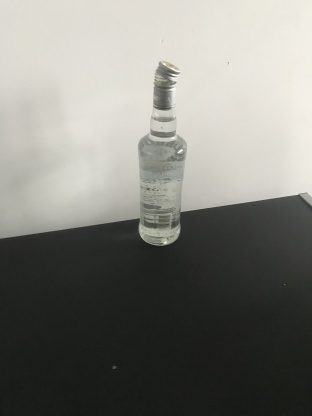nakretka: (151, 58, 181, 110)
